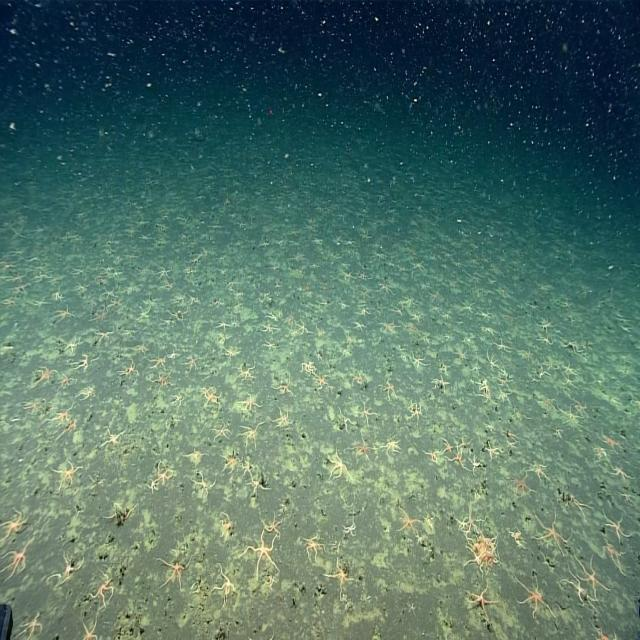brittle-stars: (239, 524, 284, 581), (322, 552, 363, 606), (514, 570, 556, 622), (534, 502, 574, 555), (573, 550, 614, 600), (0, 531, 39, 579), (564, 564, 598, 612), (0, 502, 35, 546), (466, 577, 502, 618), (211, 558, 241, 606), (51, 546, 88, 584), (156, 552, 196, 586), (453, 500, 490, 536), (328, 446, 363, 484), (558, 488, 596, 523), (477, 531, 508, 573), (396, 506, 430, 544), (600, 534, 629, 578), (92, 564, 119, 609), (53, 457, 87, 491), (464, 534, 490, 578), (593, 460, 636, 486), (602, 501, 627, 544), (19, 605, 49, 640), (269, 398, 299, 432), (598, 426, 628, 458), (473, 373, 500, 407), (334, 402, 360, 437), (238, 420, 268, 450), (508, 469, 538, 499), (350, 433, 380, 462), (73, 612, 104, 640), (232, 358, 260, 389), (32, 364, 62, 392), (506, 518, 529, 551), (443, 442, 471, 469), (303, 532, 328, 562), (272, 370, 297, 400), (102, 424, 130, 450), (560, 399, 586, 427), (529, 459, 555, 487), (356, 398, 380, 428), (194, 470, 220, 497), (154, 457, 179, 485), (238, 389, 268, 412), (151, 371, 180, 394), (182, 445, 212, 467), (398, 292, 420, 322), (203, 382, 224, 413), (484, 348, 509, 374), (106, 496, 130, 522), (220, 448, 244, 474), (377, 316, 405, 338), (405, 393, 426, 422), (591, 619, 620, 640), (148, 348, 170, 374), (483, 439, 505, 465), (439, 432, 462, 456), (59, 417, 80, 443), (158, 459, 178, 486), (408, 345, 428, 372), (213, 319, 240, 339), (422, 448, 446, 470), (248, 472, 273, 493), (560, 335, 586, 355), (120, 500, 143, 522), (212, 420, 235, 442), (379, 437, 402, 459), (138, 296, 156, 323), (222, 342, 244, 364), (65, 332, 87, 354), (492, 334, 514, 356), (71, 351, 92, 374), (223, 508, 238, 540), (119, 359, 143, 379), (57, 369, 81, 389), (55, 405, 78, 425), (383, 377, 400, 403), (90, 302, 111, 323), (183, 353, 202, 376), (54, 307, 78, 325), (501, 428, 518, 453), (469, 449, 484, 477), (432, 373, 453, 393), (297, 316, 317, 337), (456, 430, 474, 453), (23, 396, 46, 414), (96, 326, 119, 344), (344, 509, 359, 536), (314, 370, 334, 390), (349, 366, 366, 389), (78, 384, 98, 403), (560, 372, 580, 391), (513, 402, 534, 420), (534, 317, 556, 334), (538, 394, 558, 412), (262, 319, 284, 335), (240, 462, 258, 481), (533, 361, 552, 379), (303, 359, 320, 379), (496, 386, 513, 406), (131, 339, 152, 355), (439, 351, 451, 378), (457, 342, 470, 366), (193, 575, 211, 592), (289, 250, 307, 267), (91, 470, 108, 488), (380, 280, 396, 299), (158, 265, 178, 280), (408, 258, 428, 273), (159, 315, 179, 330), (161, 277, 179, 293), (469, 355, 482, 377), (459, 300, 476, 316), (562, 360, 578, 377), (286, 323, 302, 340), (517, 346, 535, 361), (552, 424, 567, 441), (352, 318, 370, 332), (353, 307, 374, 319), (537, 335, 556, 348), (478, 324, 500, 335), (32, 299, 56, 309), (258, 289, 274, 304), (407, 310, 424, 324), (108, 297, 126, 310), (264, 337, 279, 352), (185, 264, 199, 280), (149, 476, 162, 493), (226, 279, 247, 289), (338, 296, 353, 310), (328, 252, 344, 265), (121, 329, 141, 339), (54, 286, 66, 302), (618, 322, 634, 334), (192, 254, 205, 268), (260, 236, 272, 250), (408, 600, 419, 615), (319, 299, 336, 308), (126, 252, 141, 262), (190, 295, 203, 306), (309, 262, 323, 270), (359, 272, 370, 282)
